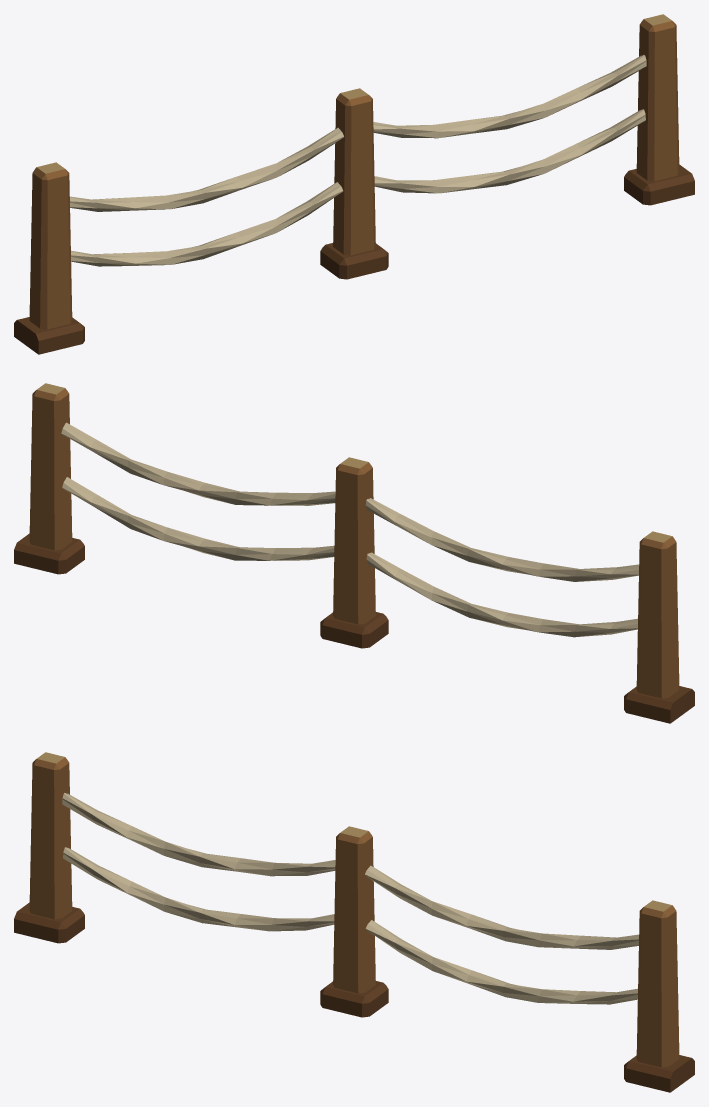
Rendered from pier-rope-railing-616f5d.glb.
3 renders of one model, top to bottom at view 1: azimuth 30°, elevation 25°; view 2: azimuth 150°, elevation 25°; view 3: azimuth 330°, elevation 25°, orthographic.
Visible parts, largest first — view 1: posts, rope-spans; view 2: posts, rope-spans; view 3: posts, rope-spans.
Boxes of the visible parts, x1=… form: posts: x1=14, y1=14, x2=694, y2=354; rope-spans: x1=70, y1=55, x2=646, y2=266; posts: x1=14, y1=383, x2=694, y2=723; rope-spans: x1=61, y1=422, x2=639, y2=637; posts: x1=14, y1=752, x2=694, y2=1092; rope-spans: x1=62, y1=793, x2=638, y2=1004.
Size of the model in its own units: 4 by 1 by 0.26.
